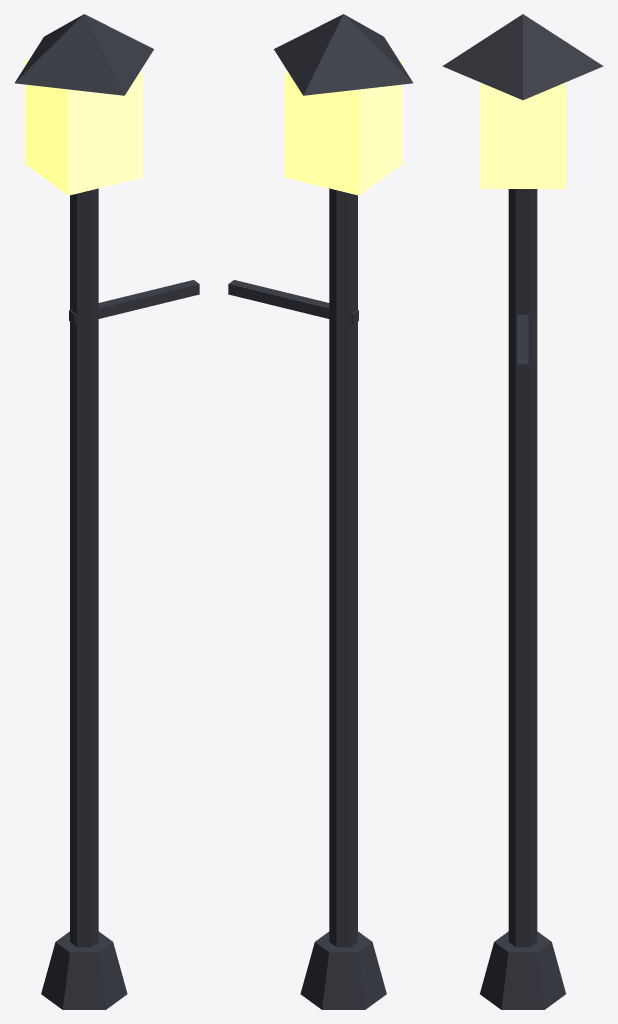
Rendered from park_lamp.glb.
3 renders of one model, left to right at view 1: azimuth 30°, elevation 25°; view 2: azimuth 150°, elevation 25°; view 3: azimuth 270°, elevation 25°, orthographic.
Parts seen in each view (by area): view 1: park_lamp; view 2: park_lamp; view 3: park_lamp.
Part boxes in pixels (x1,y1,x2,y2): park_lamp: (15, 14, 199, 1009); park_lamp: (228, 14, 412, 1009); park_lamp: (442, 14, 603, 1009).
Bounding box in the file's own units: 0.73 × 3.75 × 0.56.
